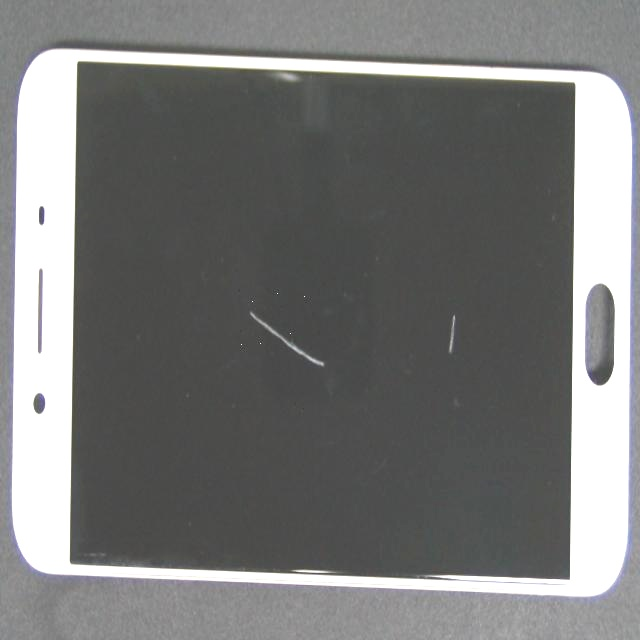scratch: (210, 152, 640, 521), (118, 159, 354, 482)
